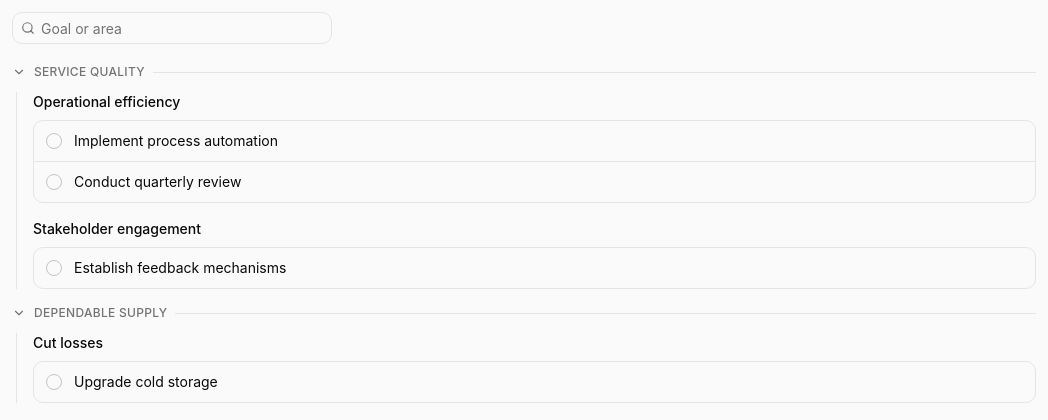
Scenario: ChipPicker › finds a branch by its pillar name as well as by its area
The width and height of the screenshot is (1048, 420).
Type "dependable" into the field with placeholder "Goal or area" at point(183, 28), box x1=35 y1=12 x2=331 y2=44
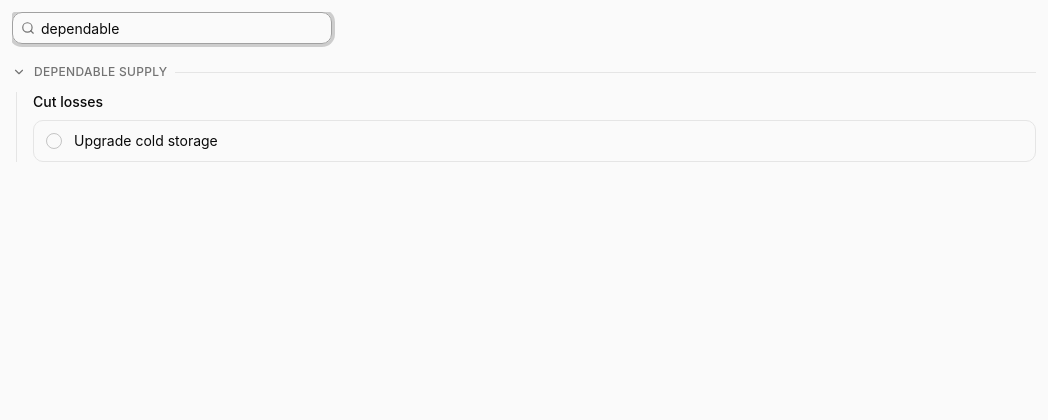
Expected: the text "Upgrade cold storage" is shown, x1=74 y1=132 x2=218 y2=149
Expected: the button "Conduct quarterly review" is gone
